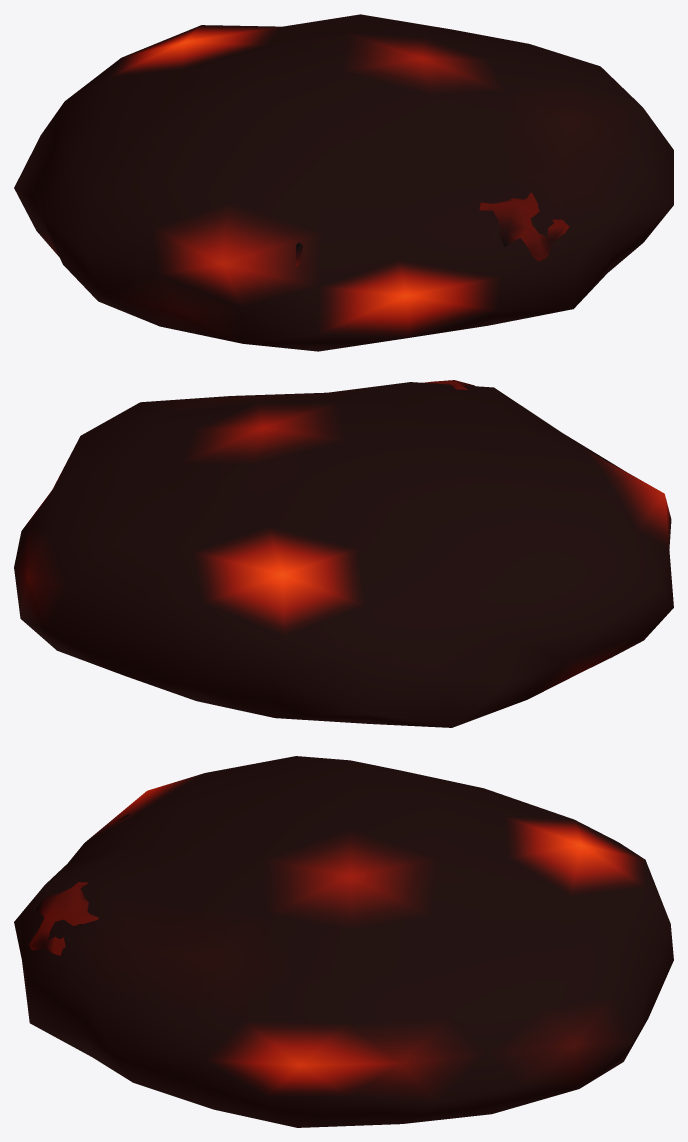
The model's file is flow_front.glb.
3 renders of one model, top to bottom at view 1: azimuth 30°, elevation 25°; view 2: azimuth 150°, elevation 25°; view 3: azimuth 270°, elevation 25°, orthographic. The views are drawn at different scales.
Visible parts, largest first — view 1: front; view 2: front; view 3: front.
Boxes of the visible parts, x1,y1,x2,y2 form: front: (14,14,673,351); front: (14,380,673,727); front: (14,756,673,1127).
Size of the model in its own units: 5.35 by 1.7 by 5.15.
